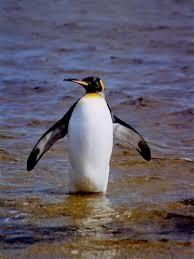king: (27, 67, 157, 211)
